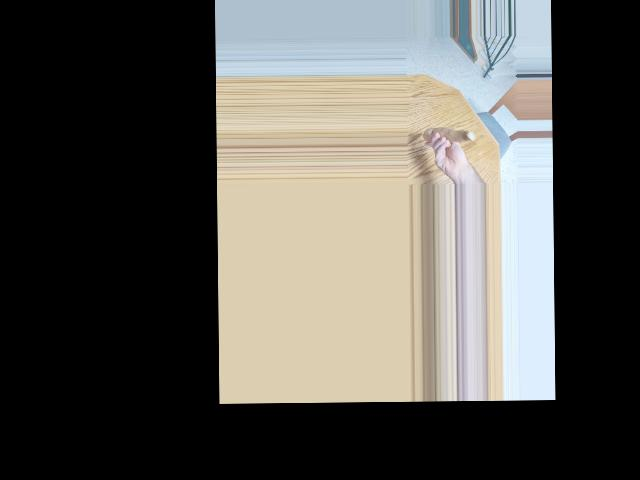sweet_potato: (425, 126, 476, 147)
